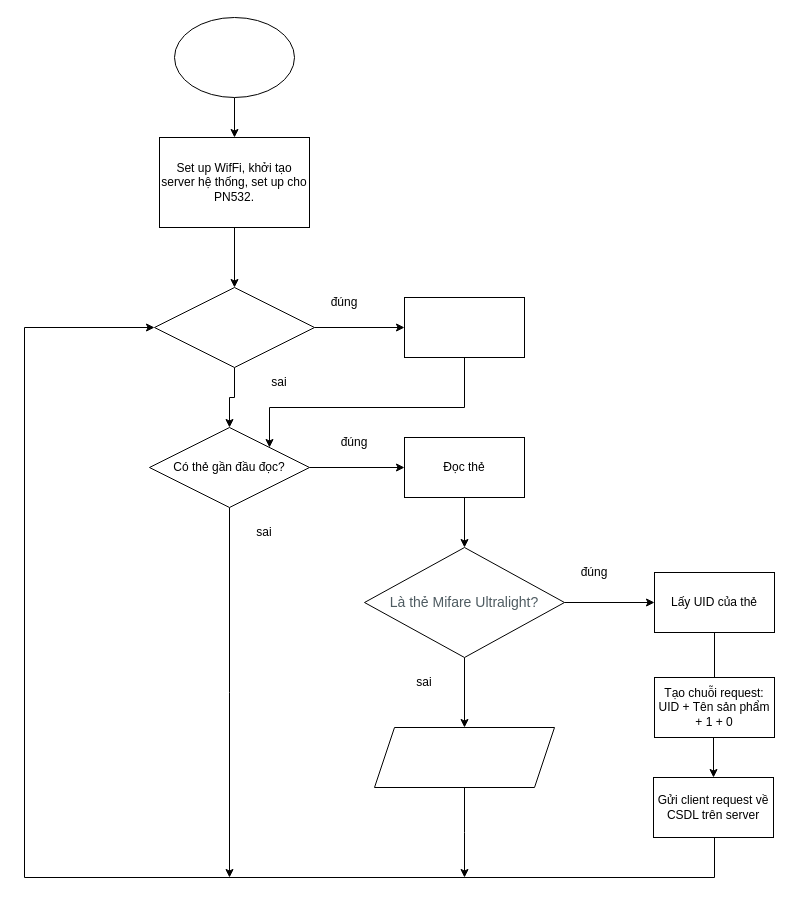
This 792x903 diagram has some shape labels left out. The box of each missing label's shape, as (x1, y1, x2, y2) in pixels:
Bắt đầu: (174, 16, 294, 98)
Không xác định được thẻ: (374, 726, 554, 788)
Kết nối lại WiFi: (404, 296, 524, 358)
WifFi ngắt kết nối?: (154, 286, 314, 368)
